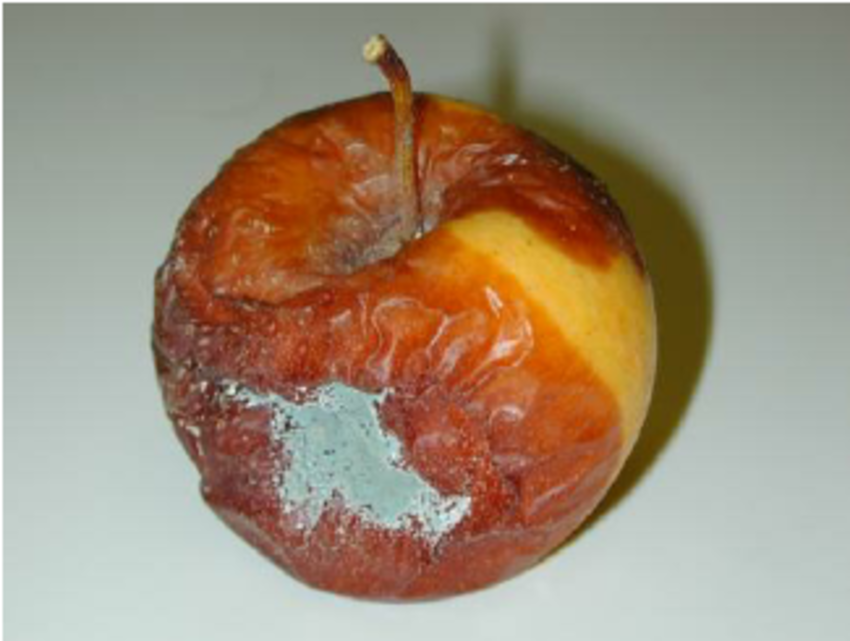Penicillium: (223, 369, 484, 553), (344, 191, 427, 284)
